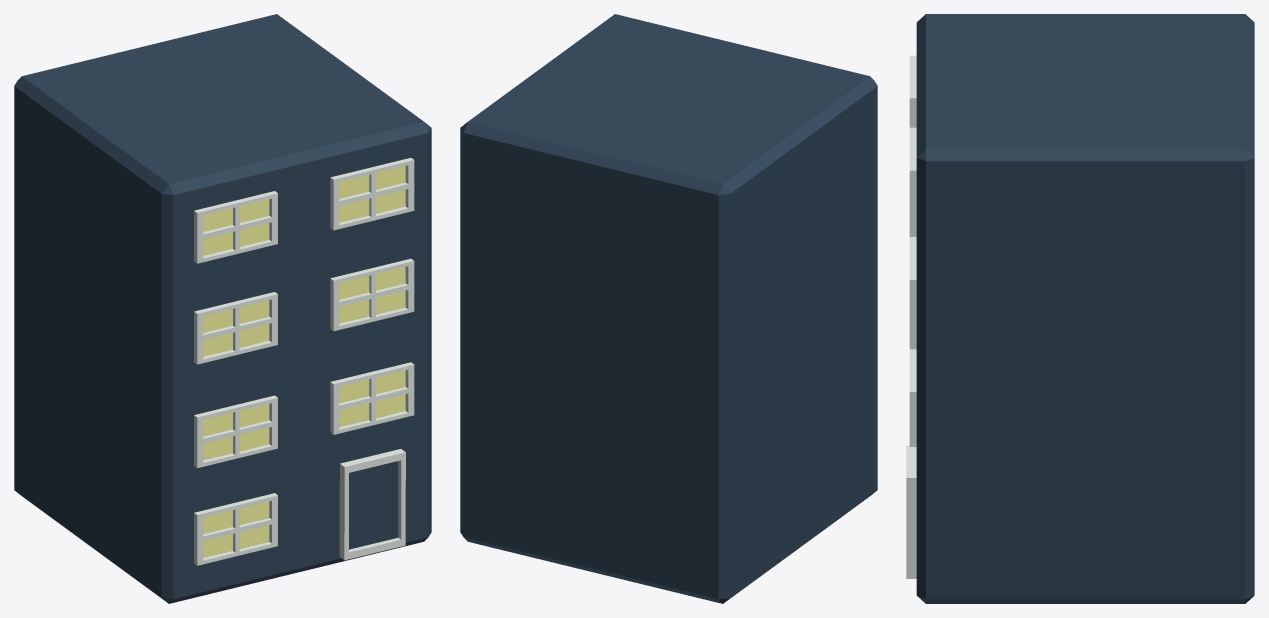
Rendered from building1.fbx.
3 views of the same model, side by side, from view 1: azimuth 30°, elevation 25°; view 2: azimuth 150°, elevation 25°; view 3: azimuth 270°, elevation 25° (orthographic). The views are drawn at different scales.
Parts seen in each view (by area): view 1: Cube, Cube.005, Cube.008, Cube.004, Cube.006, Cube.003, Cube.007, Cube.002, Cube.001; view 2: Cube; view 3: Cube, Cube.005, Cube.004, Cube.006, Cube.008, Cube.007.
Boxes of the visible parts, bbox=[...] form: Cube: bbox=[14, 14, 431, 603]; Cube.005: bbox=[339, 449, 405, 560]; Cube.008: bbox=[330, 362, 414, 434]; Cube.004: bbox=[330, 158, 414, 230]; Cube.006: bbox=[330, 258, 414, 331]; Cube.003: bbox=[194, 292, 277, 364]; Cube.007: bbox=[194, 191, 277, 263]; Cube.002: bbox=[194, 493, 277, 565]; Cube.001: bbox=[194, 395, 277, 468]; Cube: bbox=[460, 14, 877, 603]; Cube: bbox=[916, 14, 1254, 603]; Cube.005: bbox=[906, 445, 916, 578]; Cube.004: bbox=[909, 127, 916, 225]; Cube.006: bbox=[909, 237, 916, 334]; Cube.008: bbox=[909, 349, 916, 446]; Cube.007: bbox=[909, 55, 916, 127].
Size of the model in its own units: 828 by 1229 by 853.
